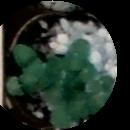Basil: (52, 99, 86, 127), (6, 71, 37, 98), (40, 54, 61, 88), (17, 46, 42, 73), (66, 38, 87, 67), (87, 74, 116, 92)
